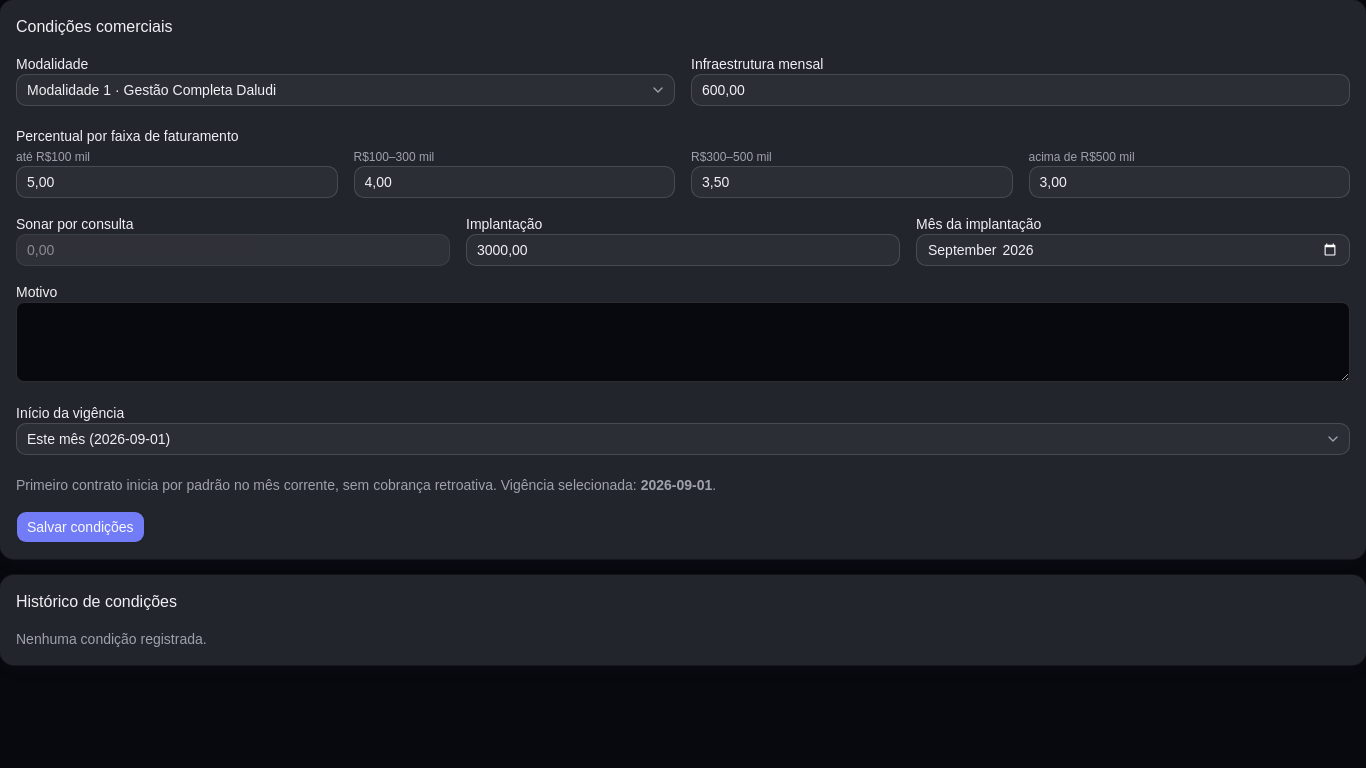
Test: CommercialTermsForm › rejeita valor monetário inválido: -1
Replace the text in the field labelled "Infraestrutura mensal" with "-1" at coordinates (1020, 90), box [691, 74, 1350, 106]
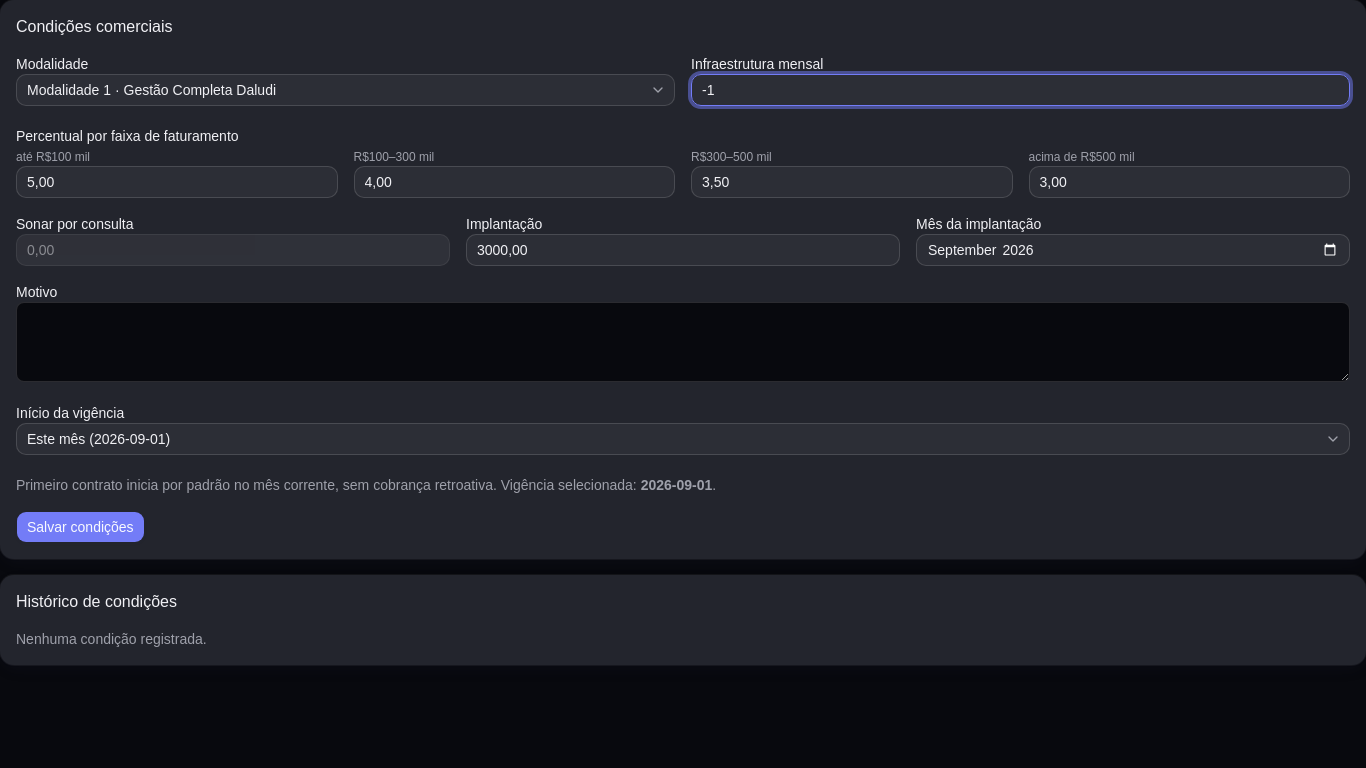
Type "teste inválido" into the text box labelled "Motivo".
click(683, 342); type("teste inválido")  # box [16, 302, 1350, 382]
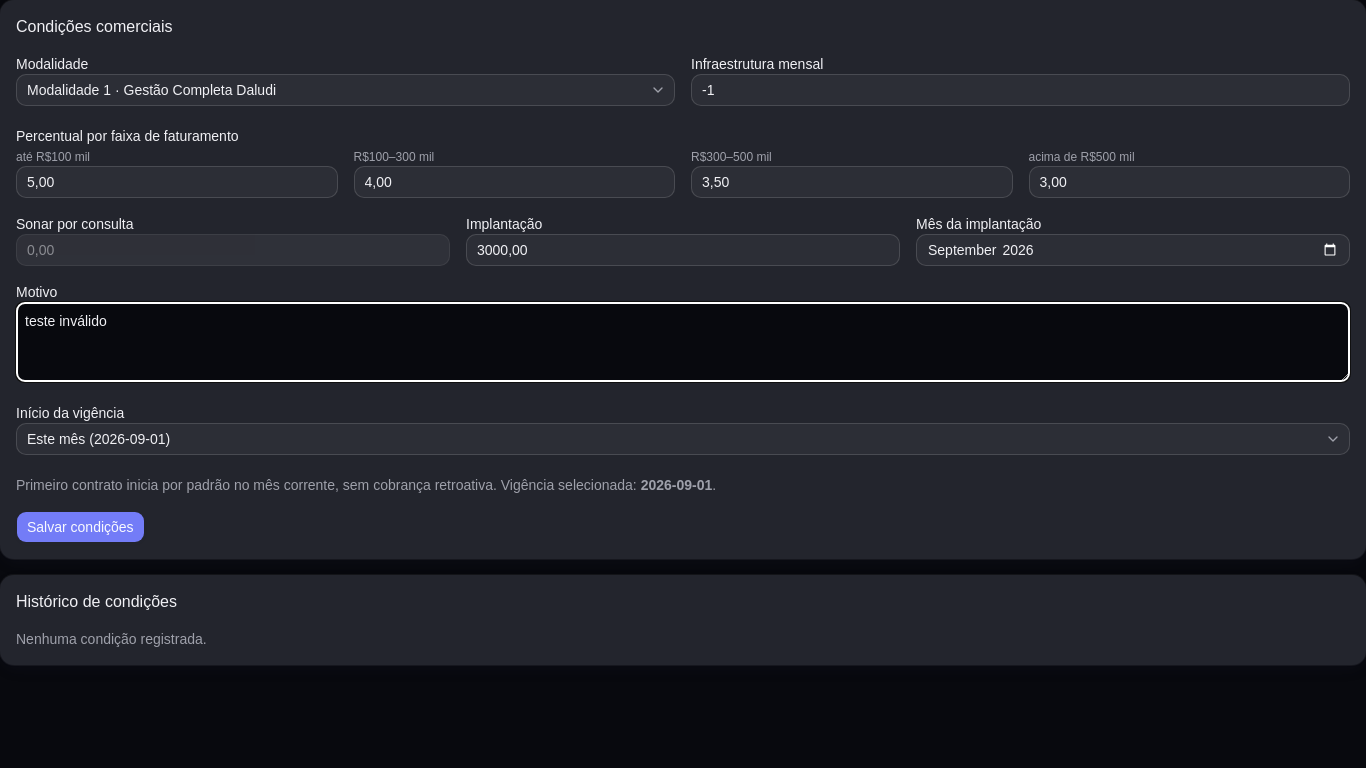
Click the button "Salvar condições".
click(80, 527)  # box [16, 511, 145, 543]
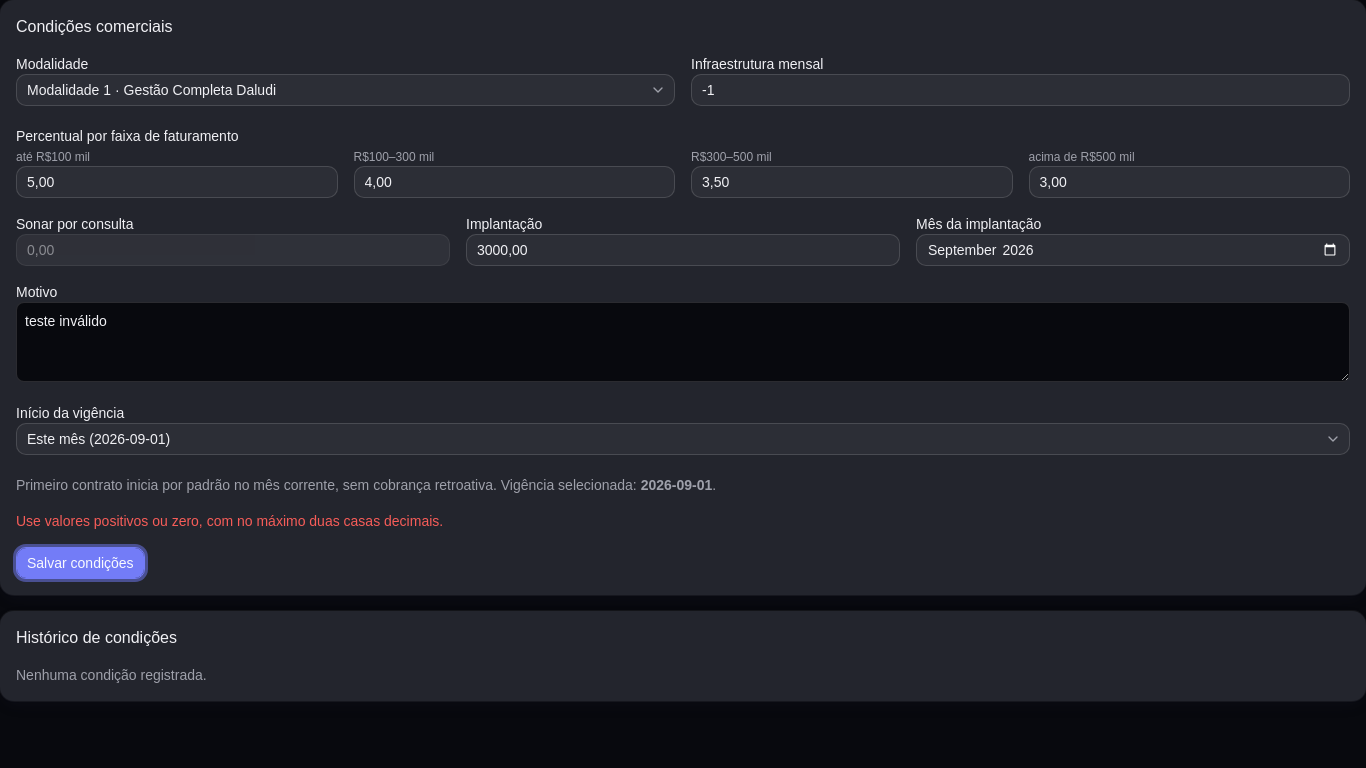
Now the message shows "no máximo duas casas decimais", box [16, 513, 443, 529]
